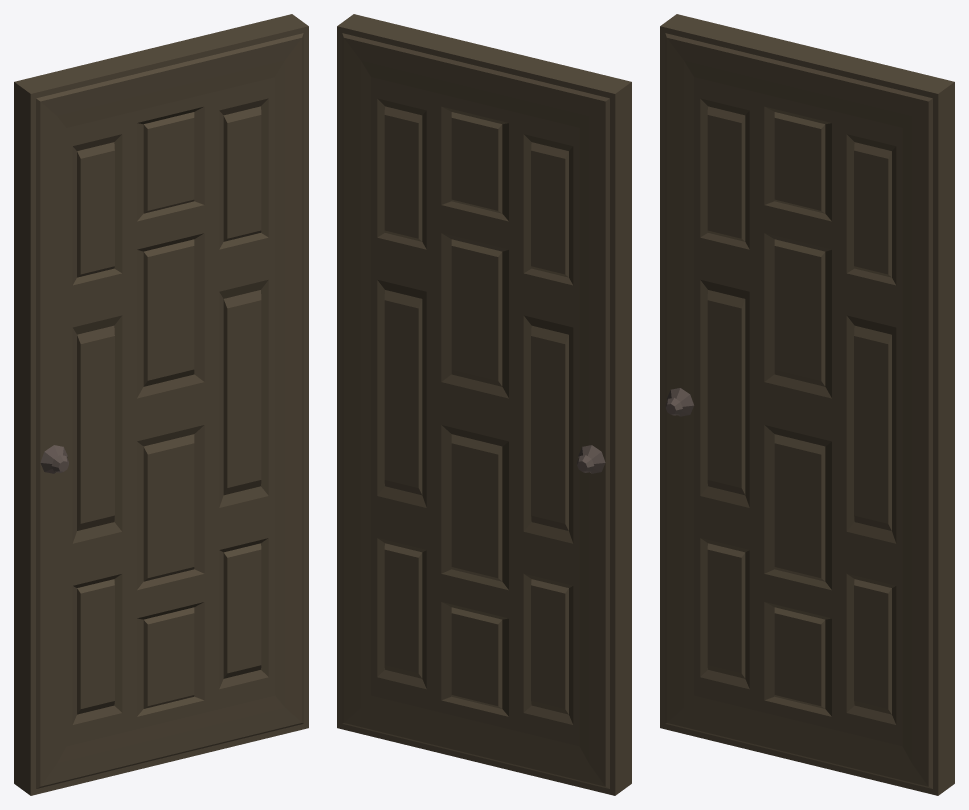
Rendered from Door-xuFNaNLzfE.glb.
The picture shows the model from 3 angles, left to right: view 1: azimuth 30°, elevation 25°; view 2: azimuth 150°, elevation 25°; view 3: azimuth 330°, elevation 25°; orthographic projection.
Visible parts, largest first — view 1: Door-xuFNaNLzfE; view 2: Door-xuFNaNLzfE; view 3: Door-xuFNaNLzfE.
Boxes of the visible parts, left/top/right/bottom form: Door-xuFNaNLzfE: left=14, top=14, right=308, bottom=795; Door-xuFNaNLzfE: left=337, top=14, right=631, bottom=795; Door-xuFNaNLzfE: left=660, top=14, right=954, bottom=795.
Size of the model in its own units: 0.522 by 1.26 by 0.1263.
